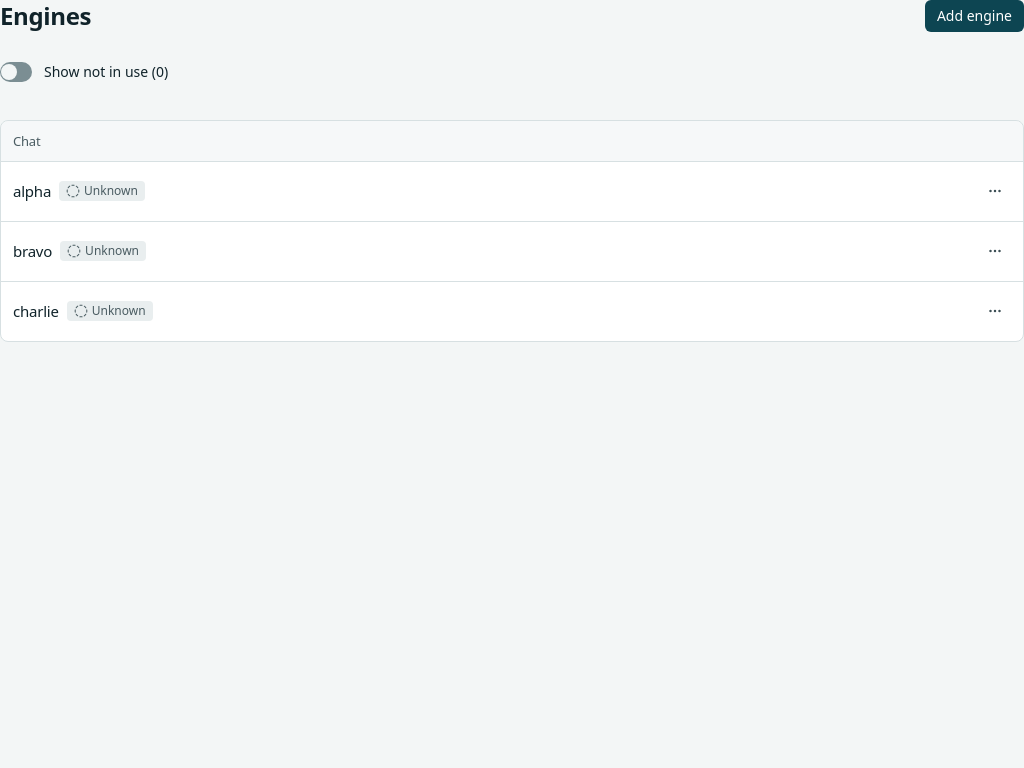
Test: engine dialog focus restoration › focuses bravo's surviving neighbour or Add engine after removal
This screenshot has width=1024, height=768.
Click the button named "Actions for bravo" at (995,251), box [979,235,1011,267]
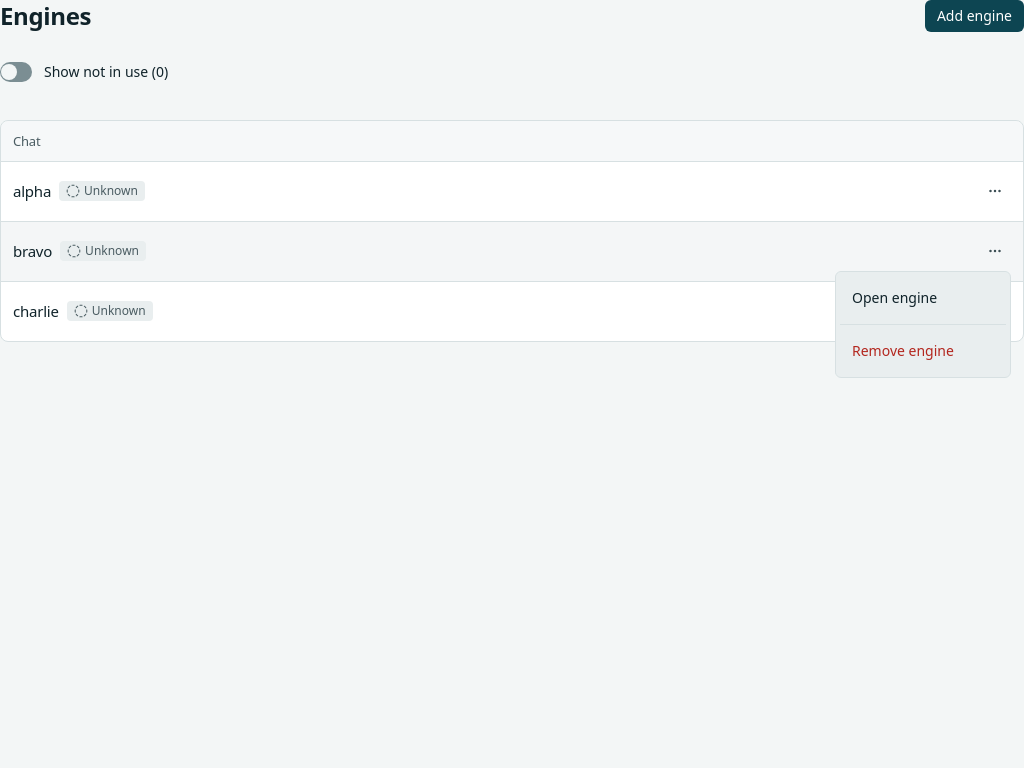
Click the menu item "Remove engine" at (903,350), box [852,341,954,360]
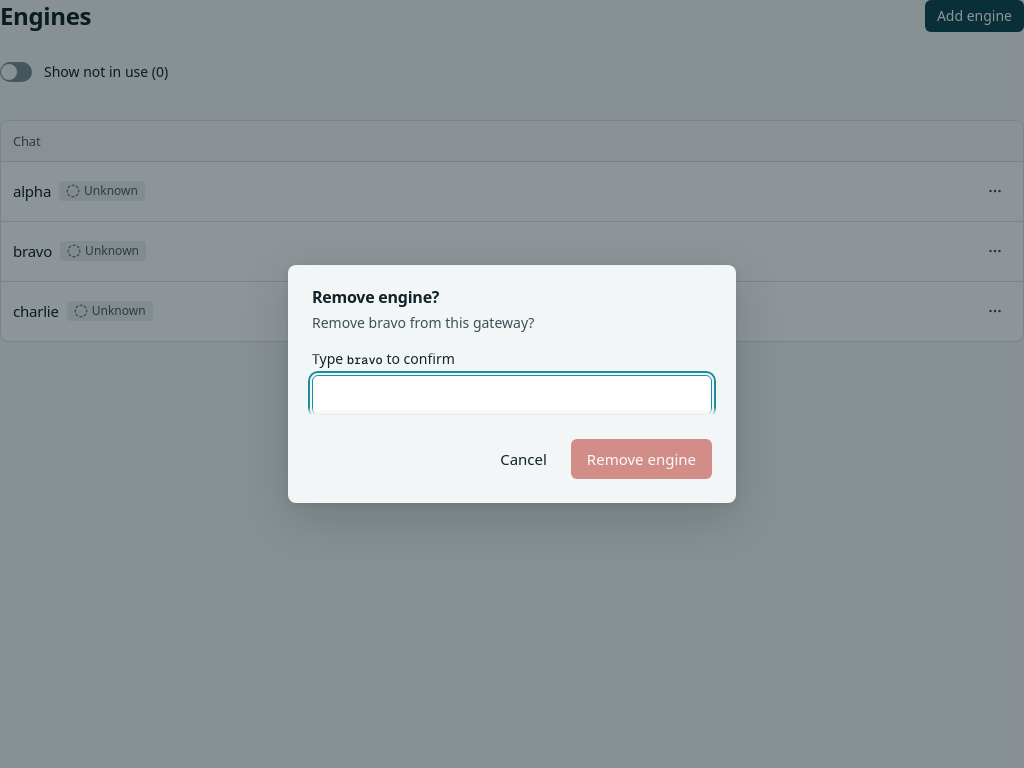
Type "bravo" into the field at (512,395), box [312,375,712,415]
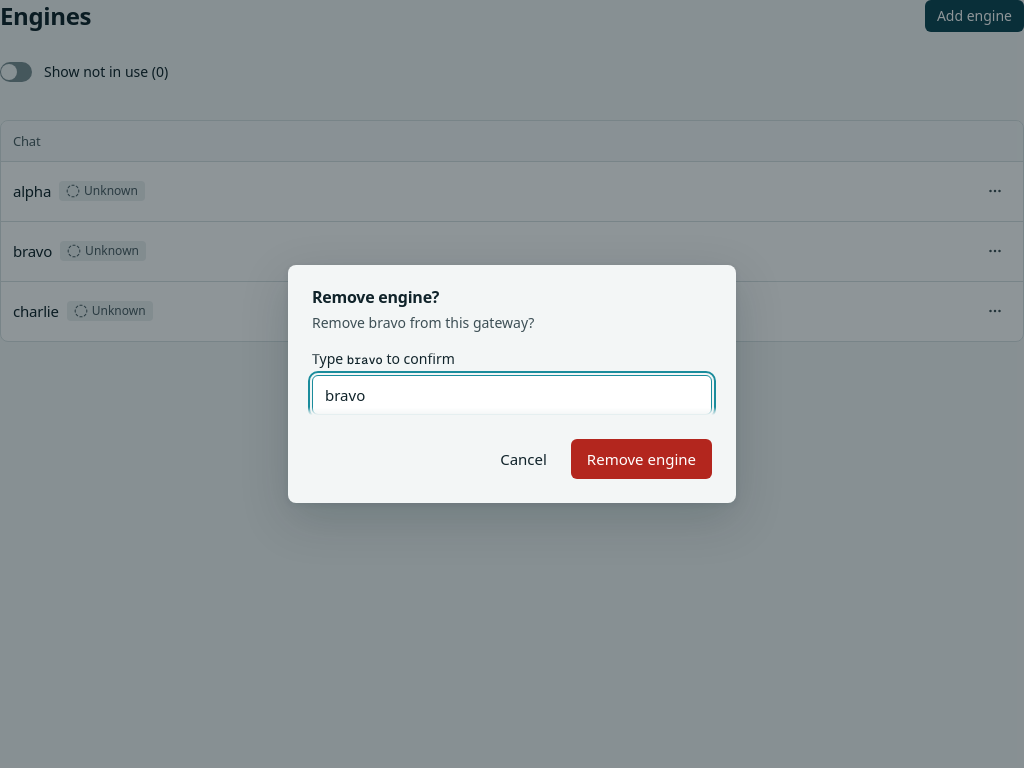
Click the button "Remove engine" at (641,459), box [571,439,712,479]
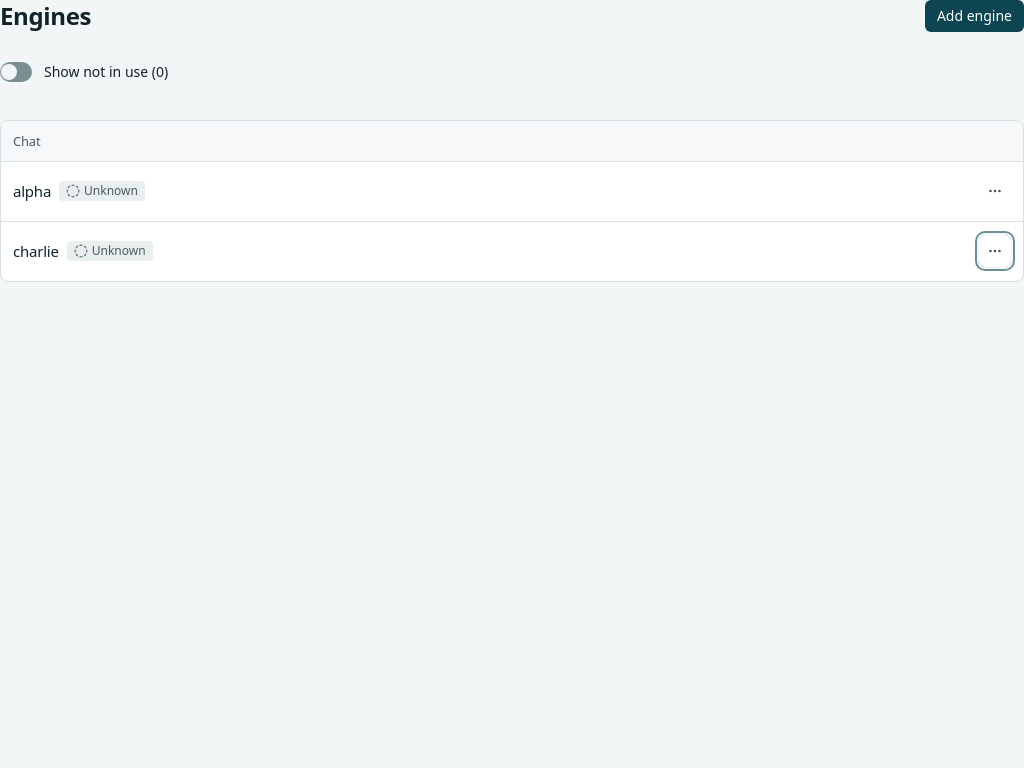
Expected: the dialog is gone
